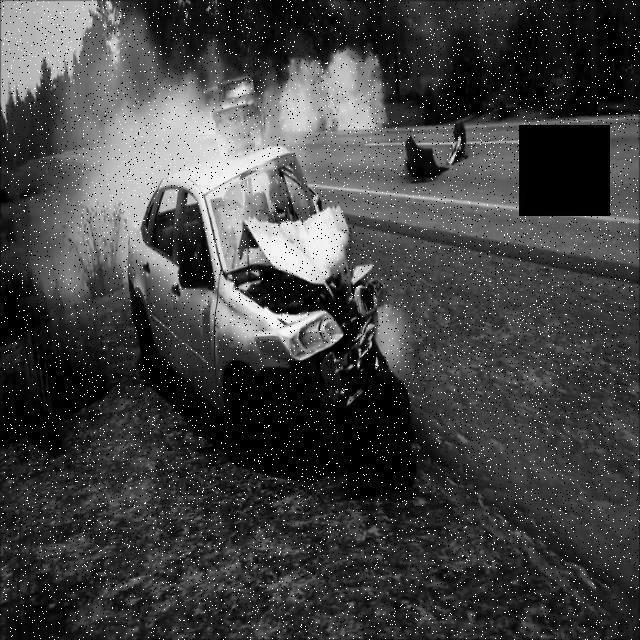accident: (120, 135, 389, 450)
